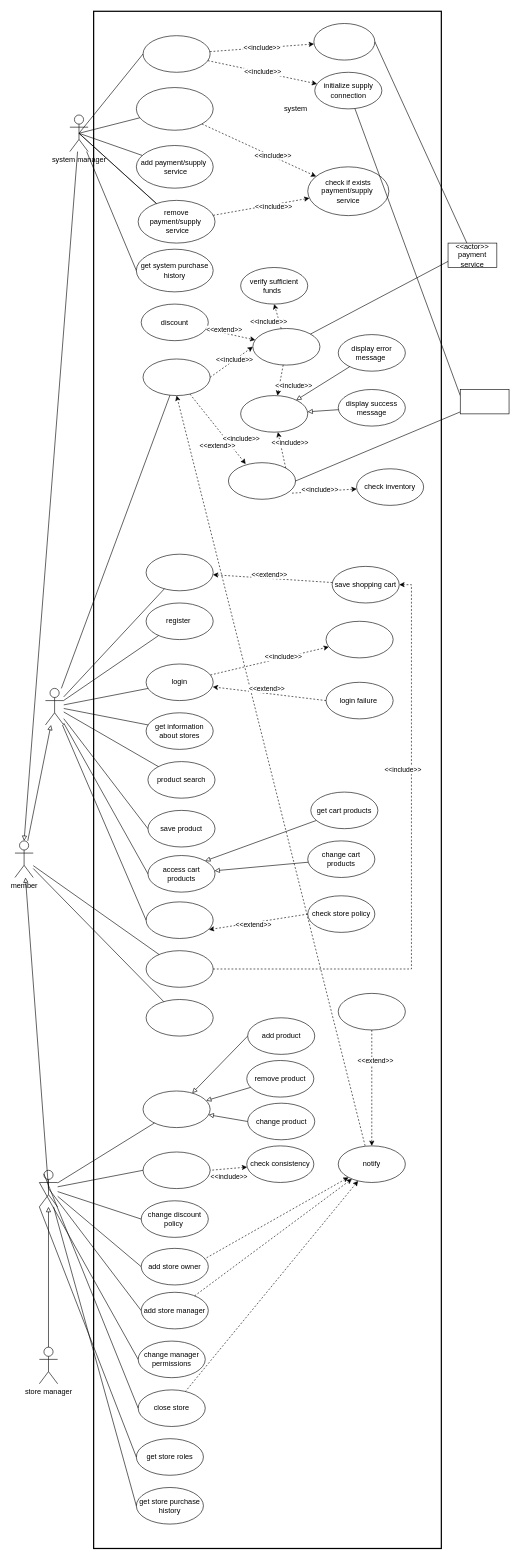
The diagram is 520 pixels wide and 1559 high, and some of its shapes have lost their labels. Here are the shapes that lost their labels. From the top down, the centre of each, then its label:
the point at 176,53: initialize system
the point at 344,41: initialize payment connection
the point at 174,108: replace payment/supply service
the point at 286,346: make payment
the point at 176,377: buy cart
the point at 274,413: response
the point at 484,401: <<actor>> supply service
the point at 262,480: make delivery
the point at 179,572: exit system
the point at 359,639: verify user&password
the point at 54,706: user/gust
the point at 179,919: add to cart
the point at 179,968: log out
the point at 179,1017: open store
the point at 371,1011: delay notfication
the point at 176,1109: inventory management
the point at 48,1188: store owner
the point at 176,1170: change buying policy
